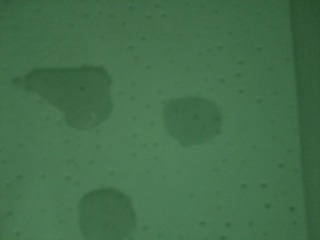Water_detected: (41, 72, 108, 125), (170, 99, 214, 139), (90, 196, 135, 235)
